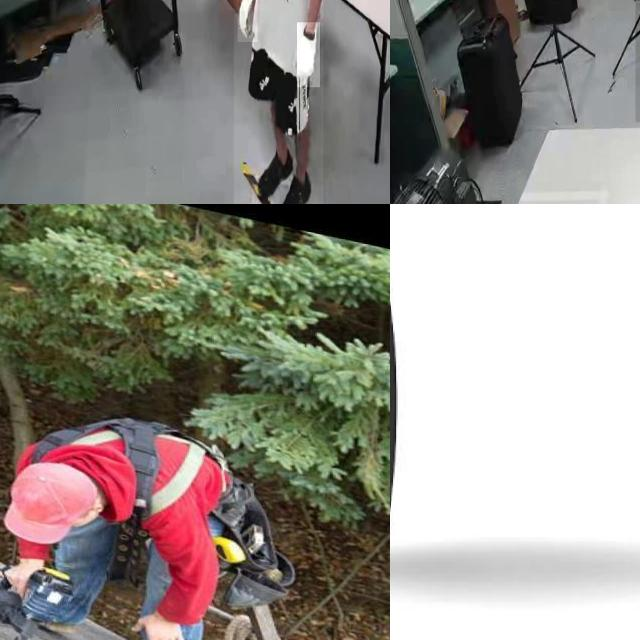Ear-protection: (390, 204, 640, 571)
Harness: (32, 418, 294, 576)
hand_glove: (297, 22, 321, 88), (237, 0, 258, 42)
person: (234, 0, 324, 204)
shoes: (252, 144, 295, 204), (276, 158, 317, 204)
